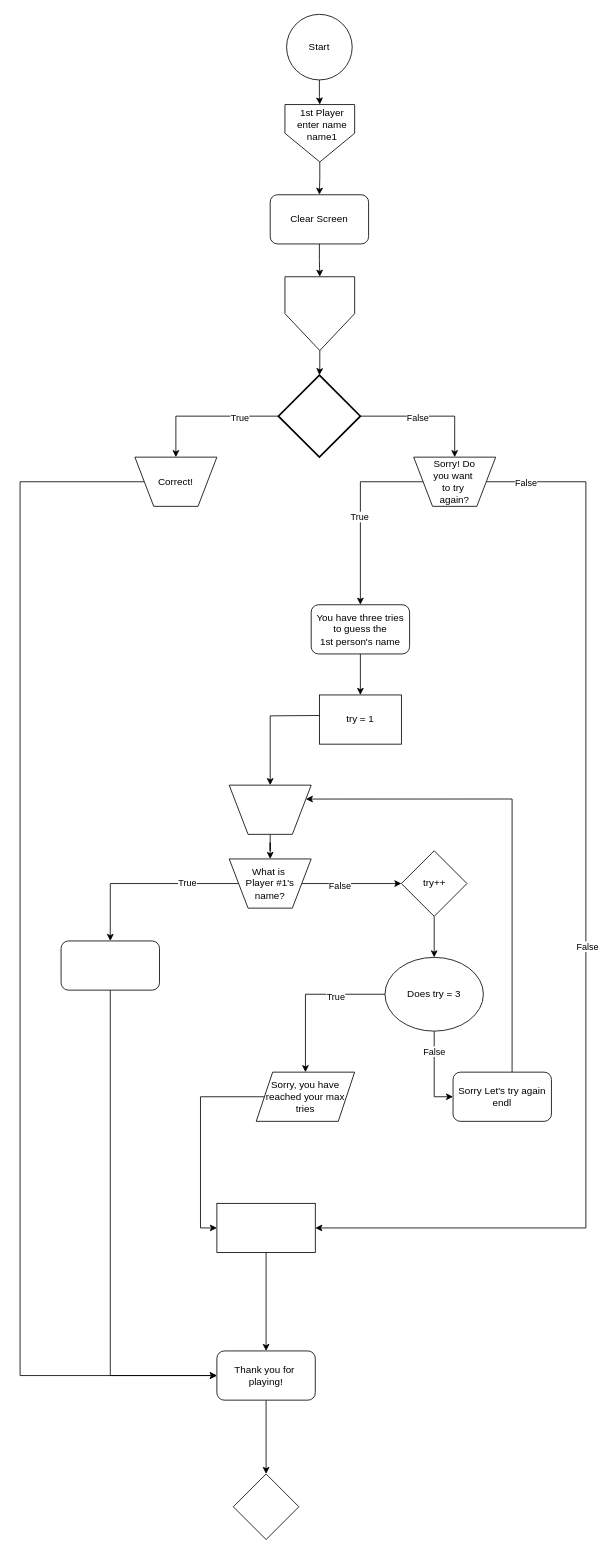
This 613x1554 diagram has some shape labels left out. Each missing label, with the centre of its shape:
"2nd Player enter name name2" belongs at point 319,313.
"Correct!!" belongs at point 109,965.
"Does name1= name2" belongs at point 319,416.
"End" belongs at point 265,1506.
"The correct name is name1 endl" belongs at point 265,1228.
"Try #try" belongs at point 269,809.
